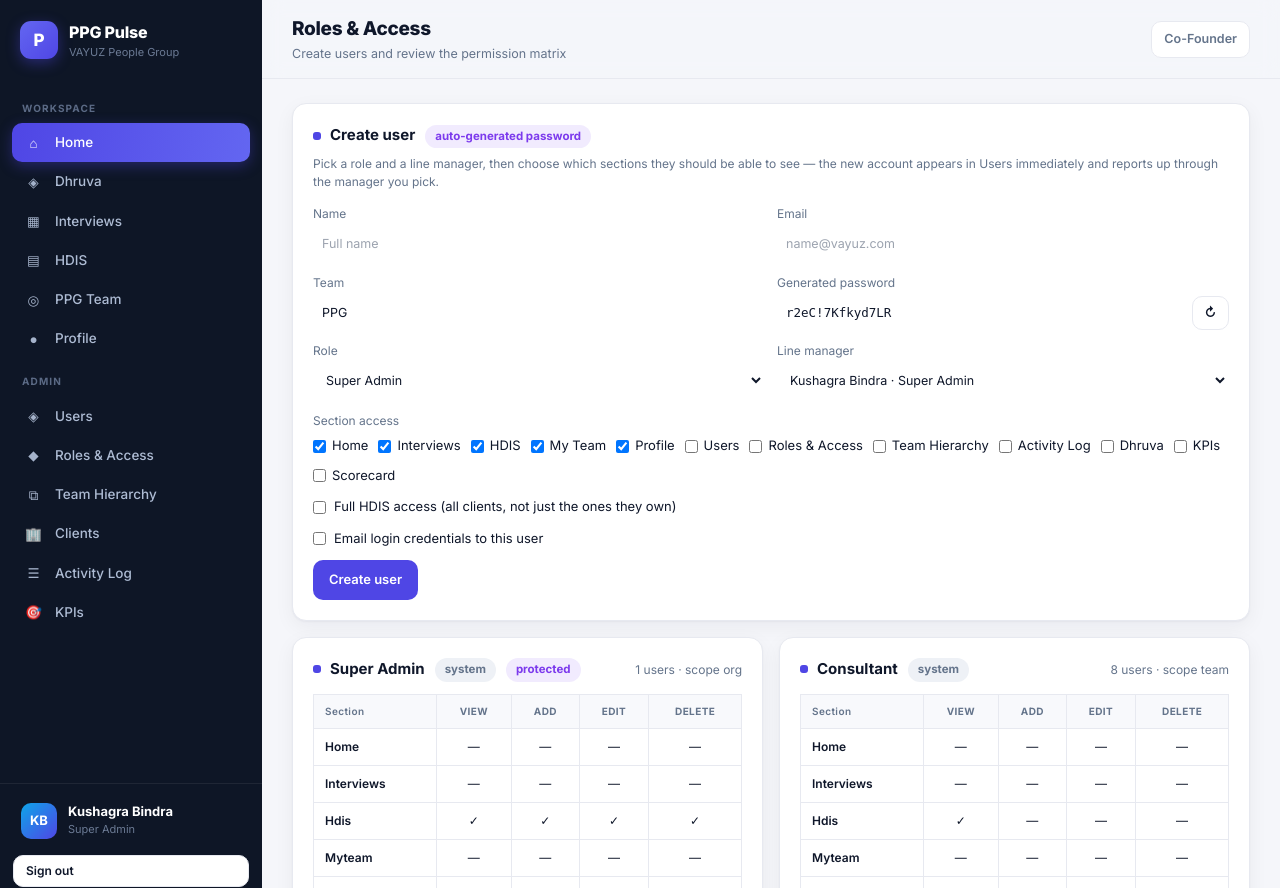
Scenario: Roles admin (T12.2) › includes emailCredentials in the payload and reports the send result
In the field with placeholder "Full name": (539, 244) [313,227,765,262], type "New Person"
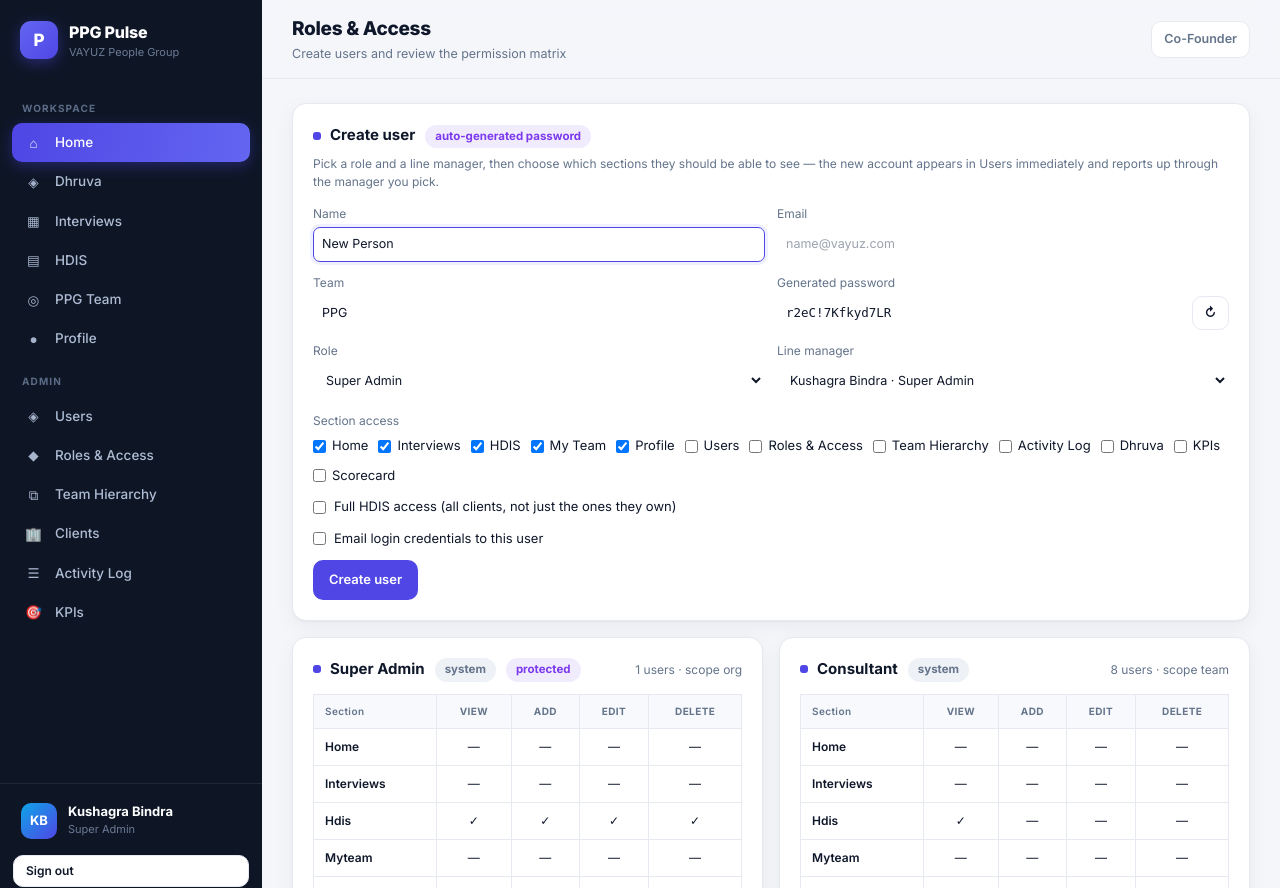
In the field with placeholder "name@vayuz.com": (1003, 244) [777,227,1229,262], type "new@vayuz.com"
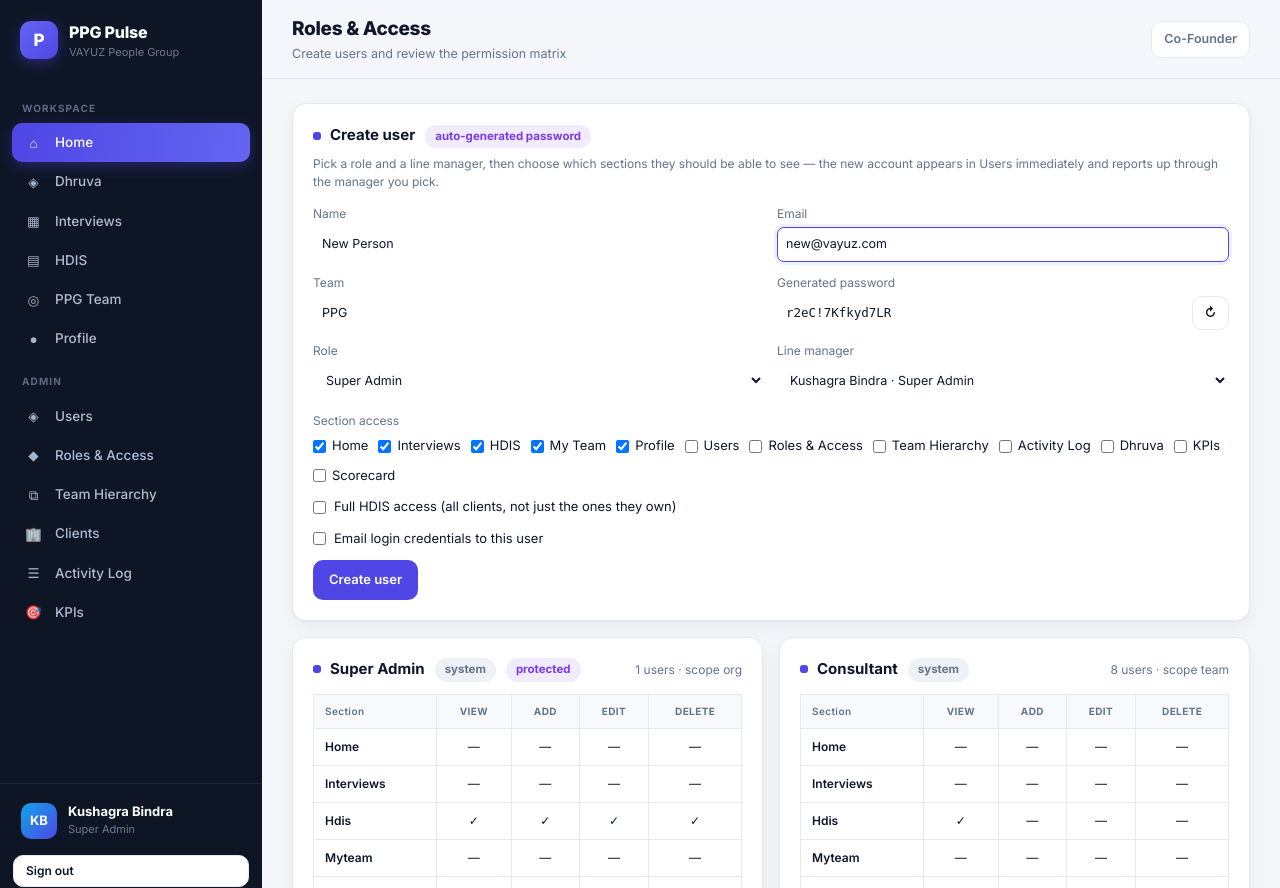
Click the text "Email login credentials to this user": (428, 538) [313,530,543,546]
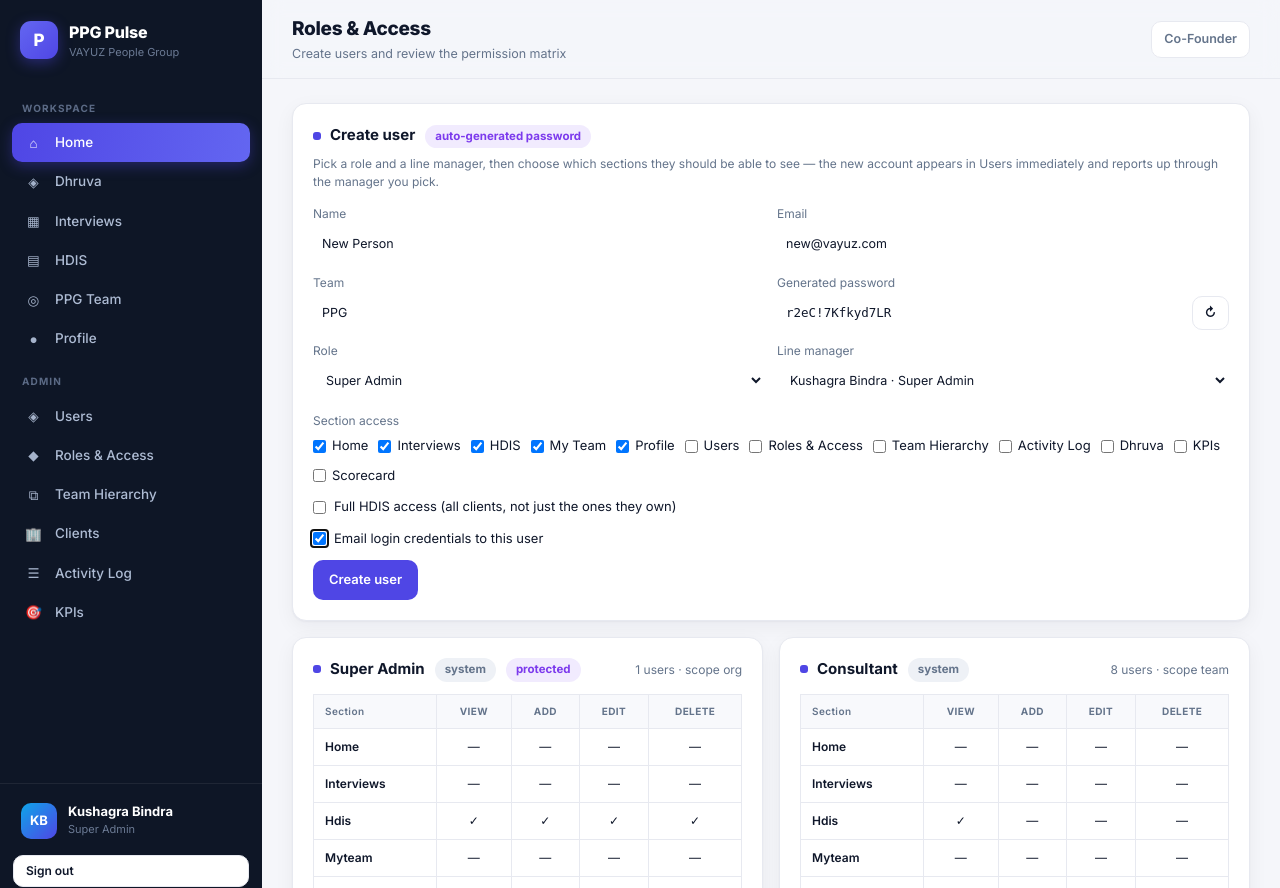
Click the button "Create user": (366, 580) [313,560,418,600]
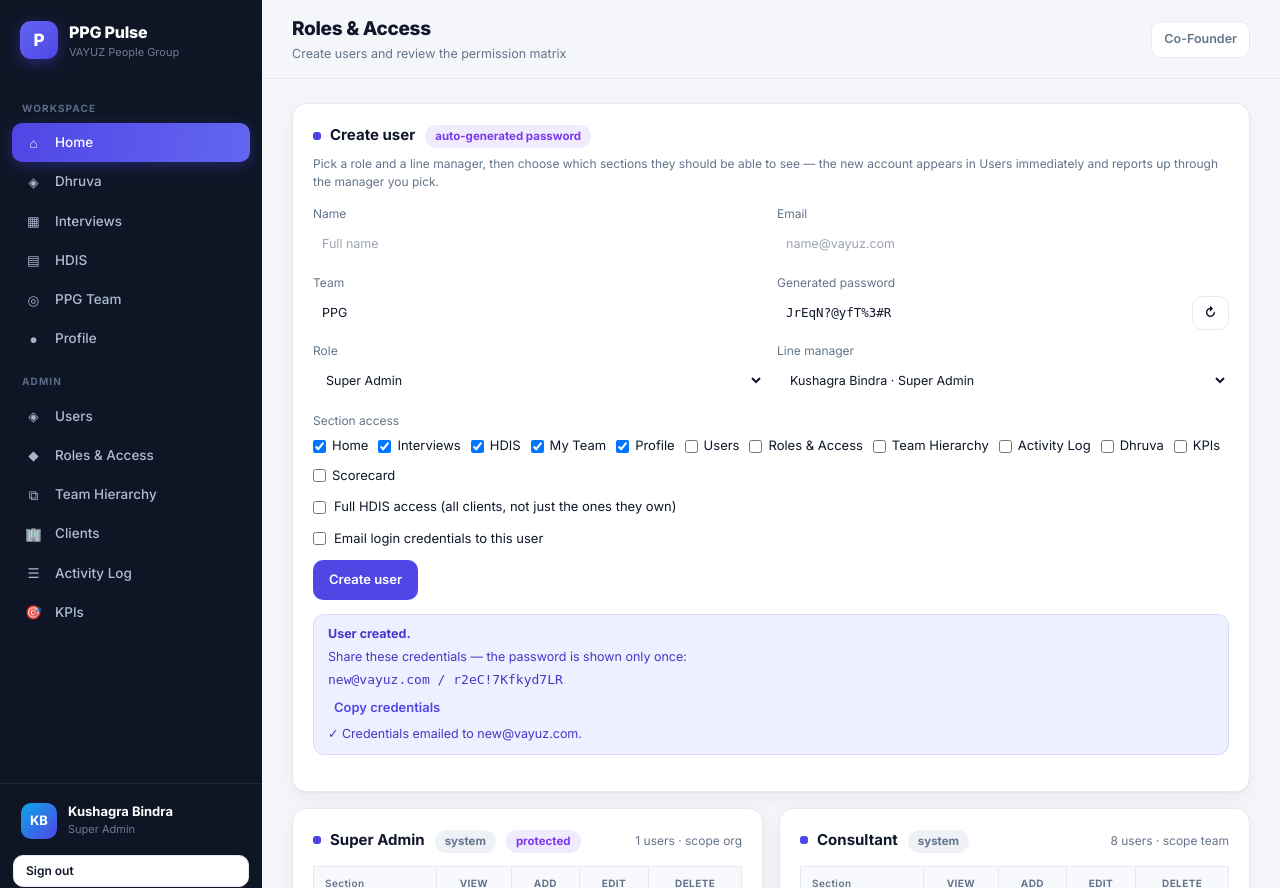
Expected: the text "✓ Credentials emailed to new@vayuz.com." is shown, [328,726,582,741]
